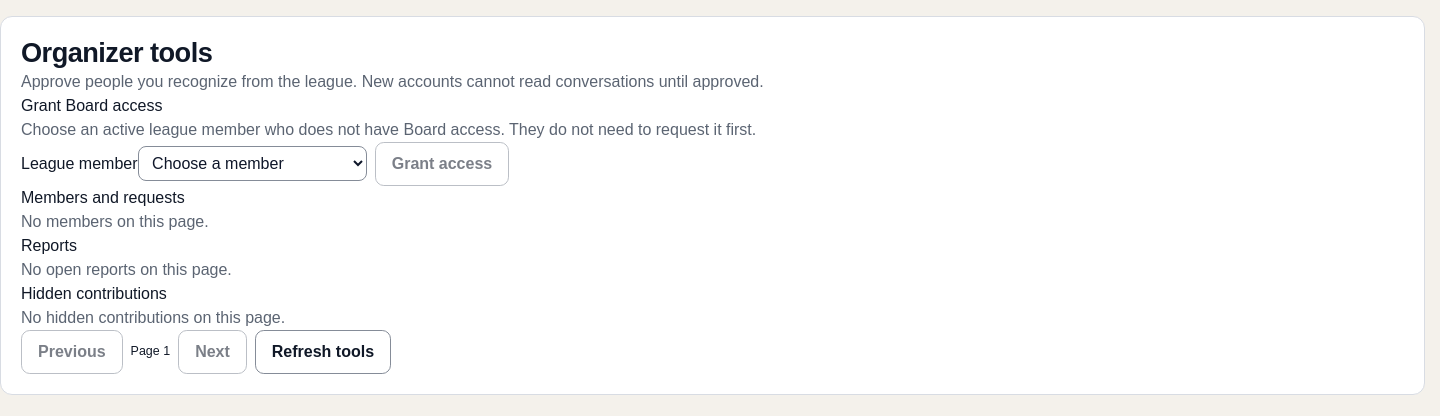
Scenario: grants an unrequested member access and refreshes the eligible list after confirmation
Expected: the button "Grant access" is disabled, [375,142,509,186]
Step 1. Select "New member · No request" in the dropdown → (252, 164), box [138,146,367,181]
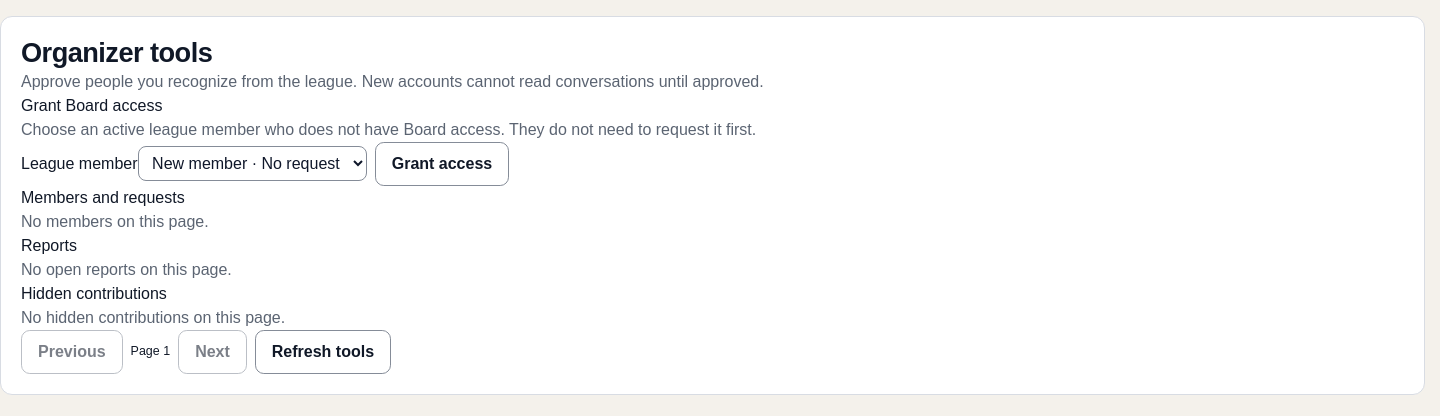
Step 2. Click the button "Grant access" → (442, 164), box [375,142,509,186]
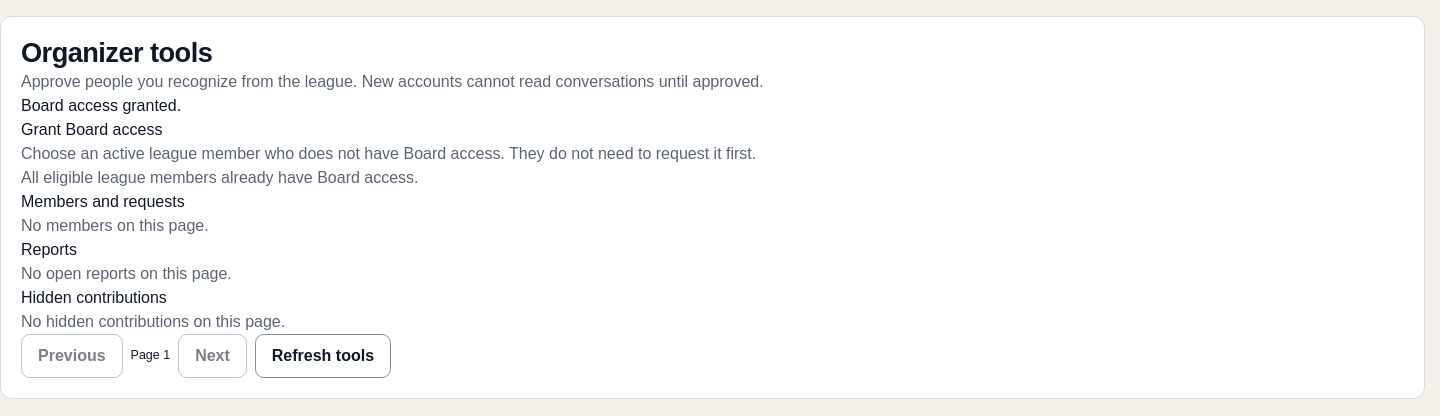
Expected: the option "New member · No request" is not shown
Now the text "Board access granted." is shown, box [21,97,181,114]
